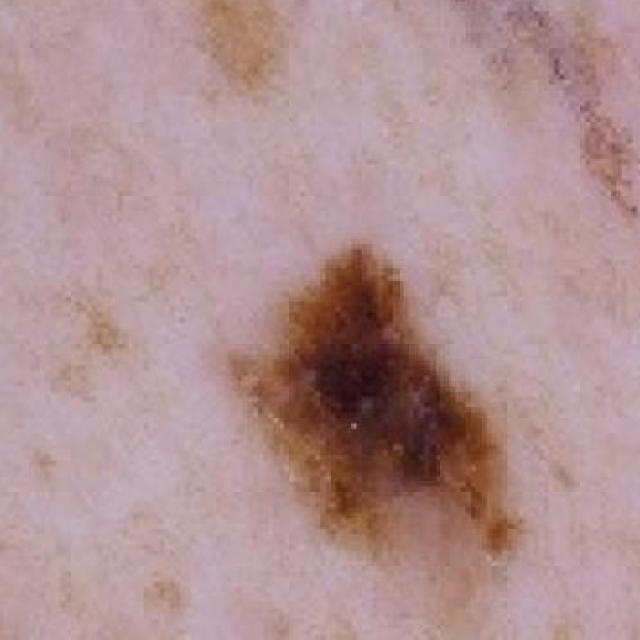MEL: (227, 214, 590, 640)
